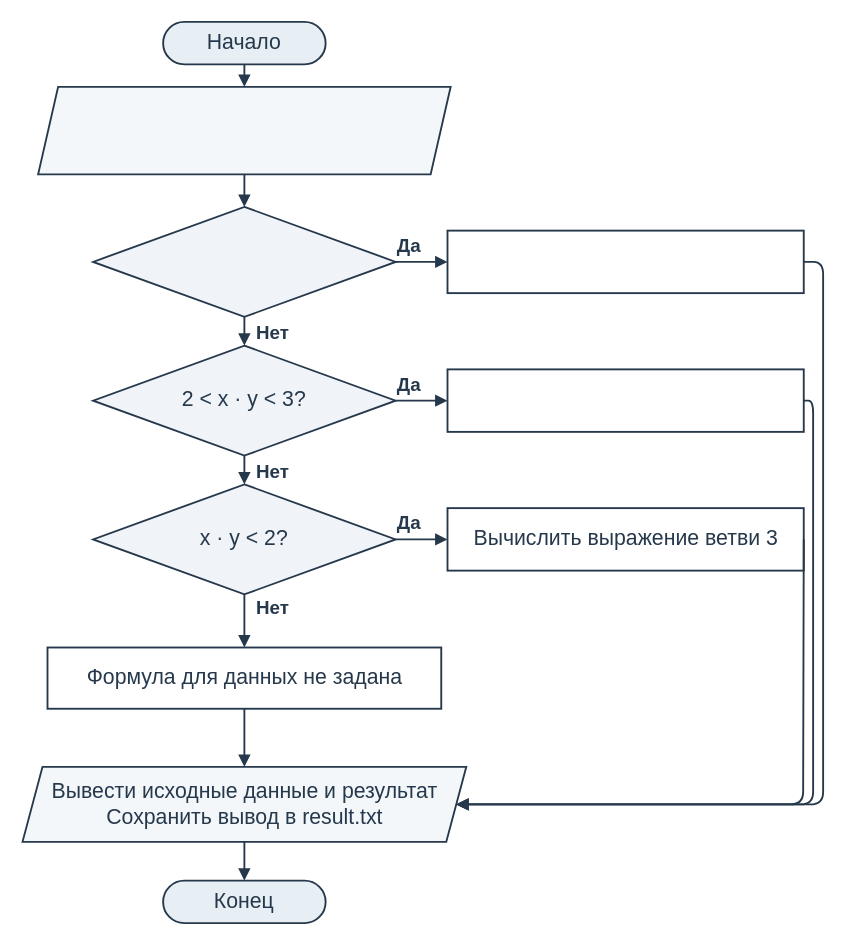
Some shapes in this 855 by 946 pixel diagram are drawn without their labels. The shapes that lost their labels are listed below. From the top down, each one's box as (x1, y1, x2, y2) in pixels, then its label:
(37, 85, 451, 175): Ввести значения с клавиатуры x, y, c, d
(92, 205, 396, 317): x · y > 3?
(446, 229, 804, 294): Вычислить выражение ветви 1
(446, 368, 804, 432): Вычислить выражение ветви 2
